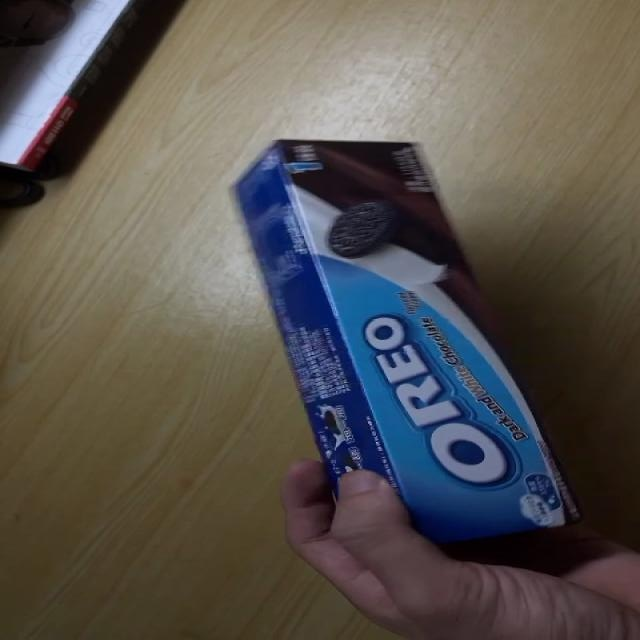Oreo: (227, 138, 580, 553)
